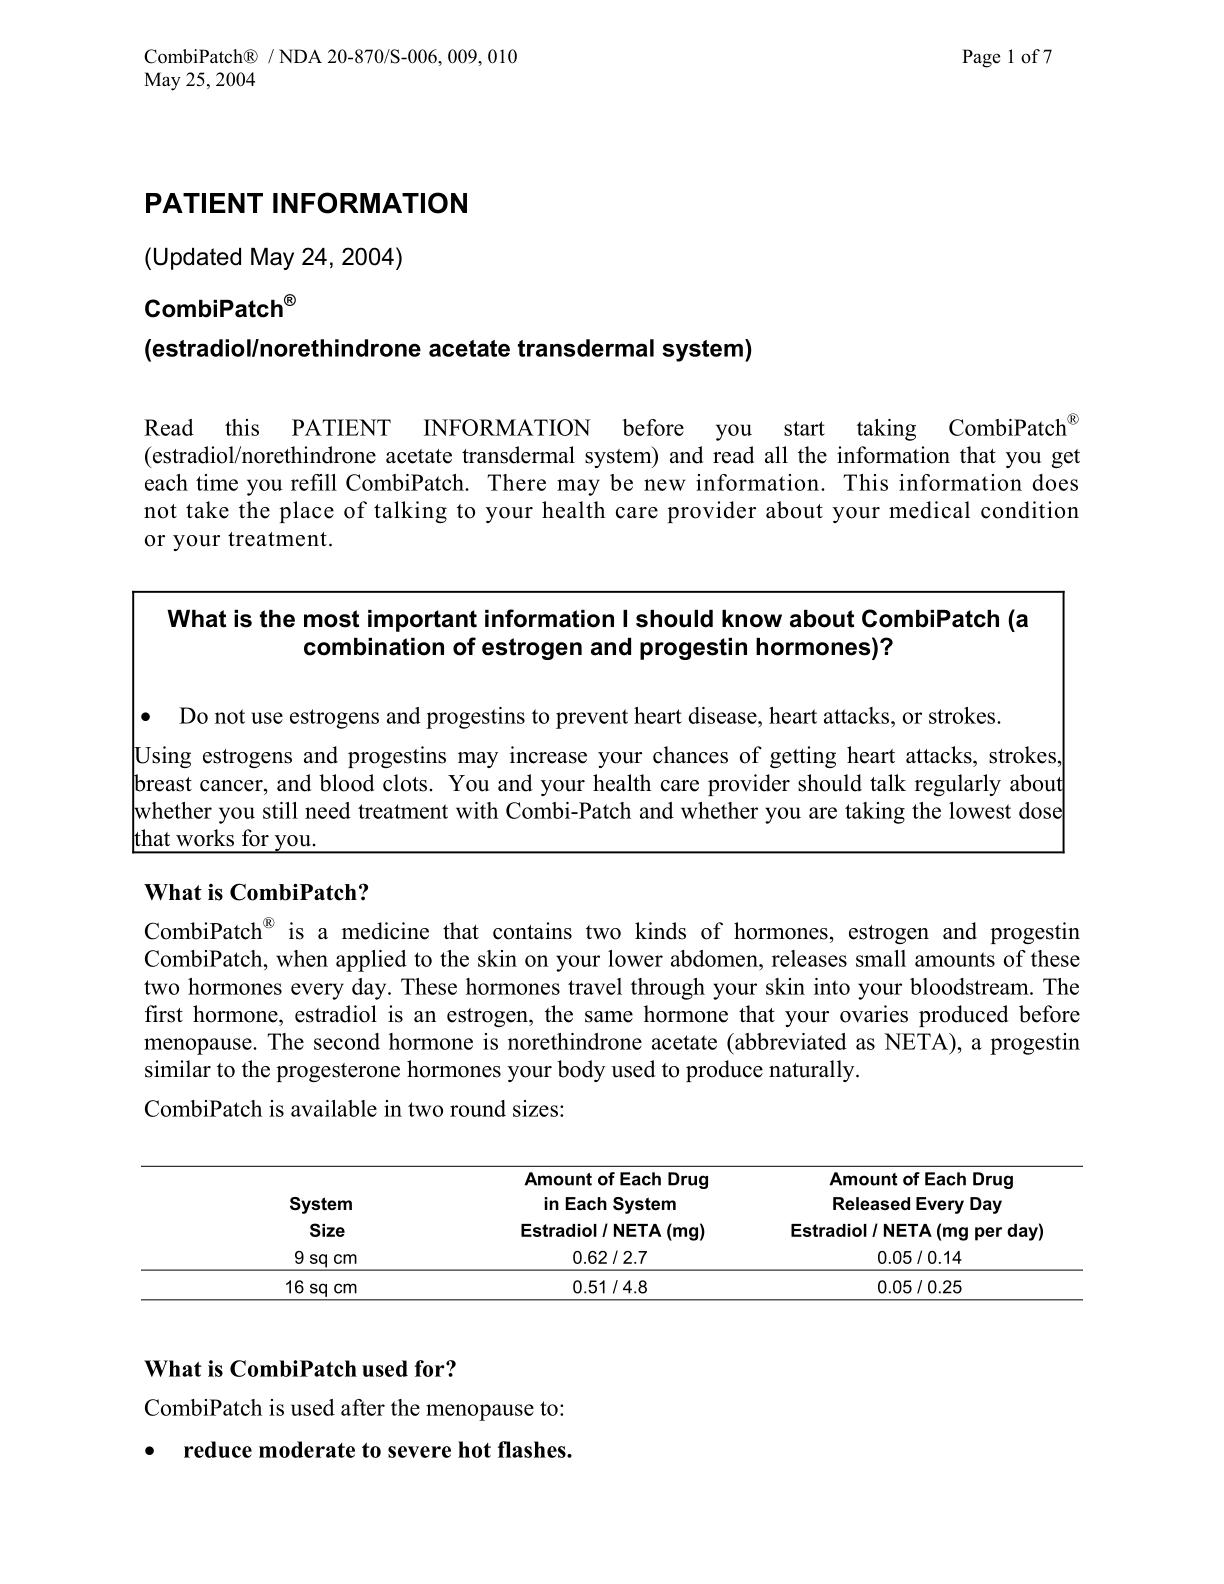partial_lined: (140, 1165, 1084, 1301)
